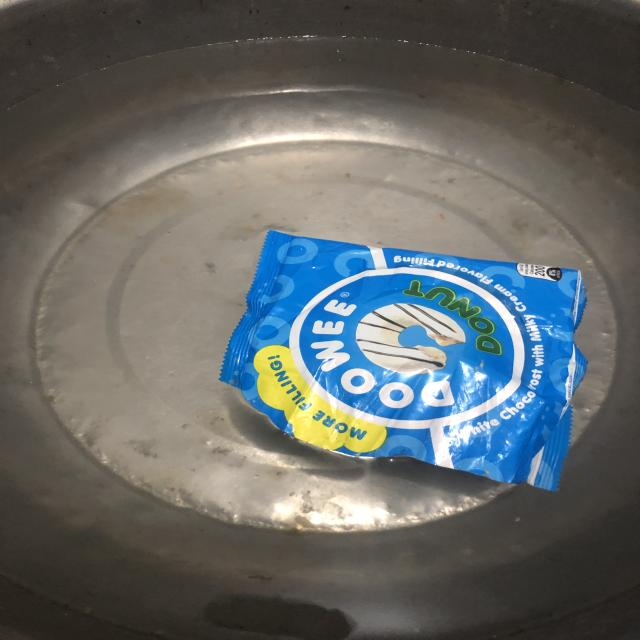Plastic Wrapper: (220, 231, 586, 490)
